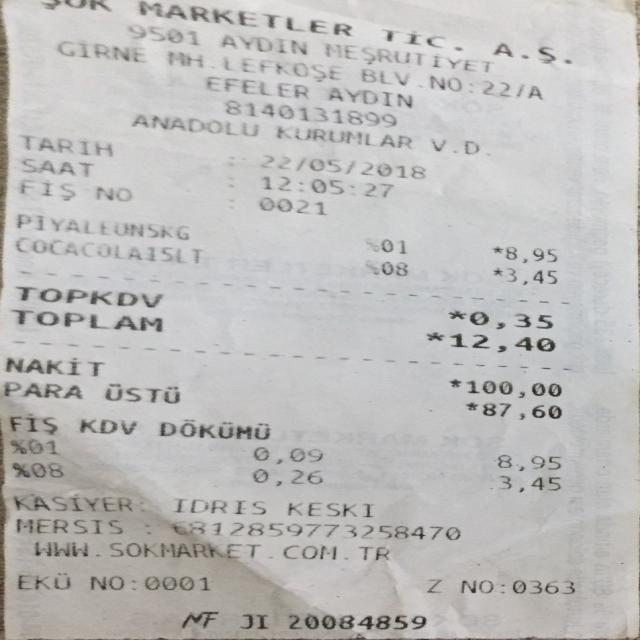text: (33, 538, 384, 563), (140, 0, 346, 42), (175, 518, 462, 542), (324, 39, 484, 78), (366, 67, 543, 102), (8, 237, 204, 267), (226, 96, 392, 130), (13, 212, 191, 240), (263, 150, 422, 181), (11, 306, 160, 334), (17, 282, 158, 310), (276, 122, 408, 151), (260, 171, 389, 199), (134, 111, 254, 138), (0, 490, 133, 513), (206, 72, 304, 101), (288, 611, 424, 631), (450, 330, 552, 356), (160, 416, 267, 440), (59, 36, 141, 67), (5, 352, 100, 378), (223, 30, 304, 59), (329, 82, 409, 110), (466, 376, 558, 400), (0, 375, 80, 402), (499, 37, 566, 67), (106, 378, 177, 406), (174, 494, 264, 516), (9, 153, 85, 179), (22, 133, 104, 157), (468, 308, 549, 332), (16, 518, 124, 536), (287, 497, 371, 519), (129, 21, 197, 48), (482, 398, 558, 422), (7, 175, 72, 203), (251, 466, 319, 488), (245, 444, 325, 462), (144, 572, 208, 594), (258, 194, 324, 215), (0, 411, 55, 435), (491, 473, 559, 492), (389, 24, 436, 51), (79, 413, 133, 436), (489, 245, 562, 262), (493, 267, 555, 286), (12, 572, 72, 591), (498, 453, 560, 471), (432, 136, 487, 156), (513, 578, 576, 594), (363, 234, 404, 257), (95, 180, 131, 206), (170, 45, 203, 72), (11, 460, 60, 478), (365, 259, 411, 277), (177, 608, 218, 628), (90, 571, 122, 592), (460, 576, 490, 592), (241, 610, 266, 629), (447, 307, 462, 329), (426, 329, 438, 351), (448, 376, 457, 397), (426, 577, 438, 592), (466, 398, 473, 419), (498, 578, 506, 592), (458, 33, 462, 53), (132, 572, 134, 592)
